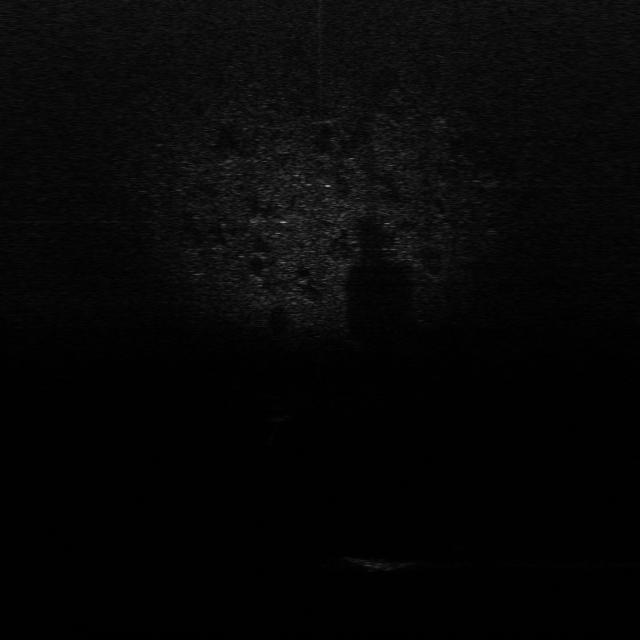ball: (268, 402, 293, 425)
metal bucket: (352, 553, 417, 571)
